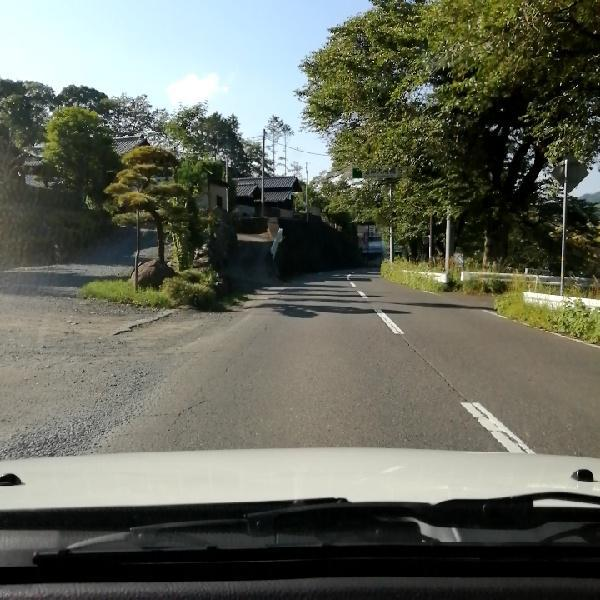D00: (139, 387, 210, 437)
